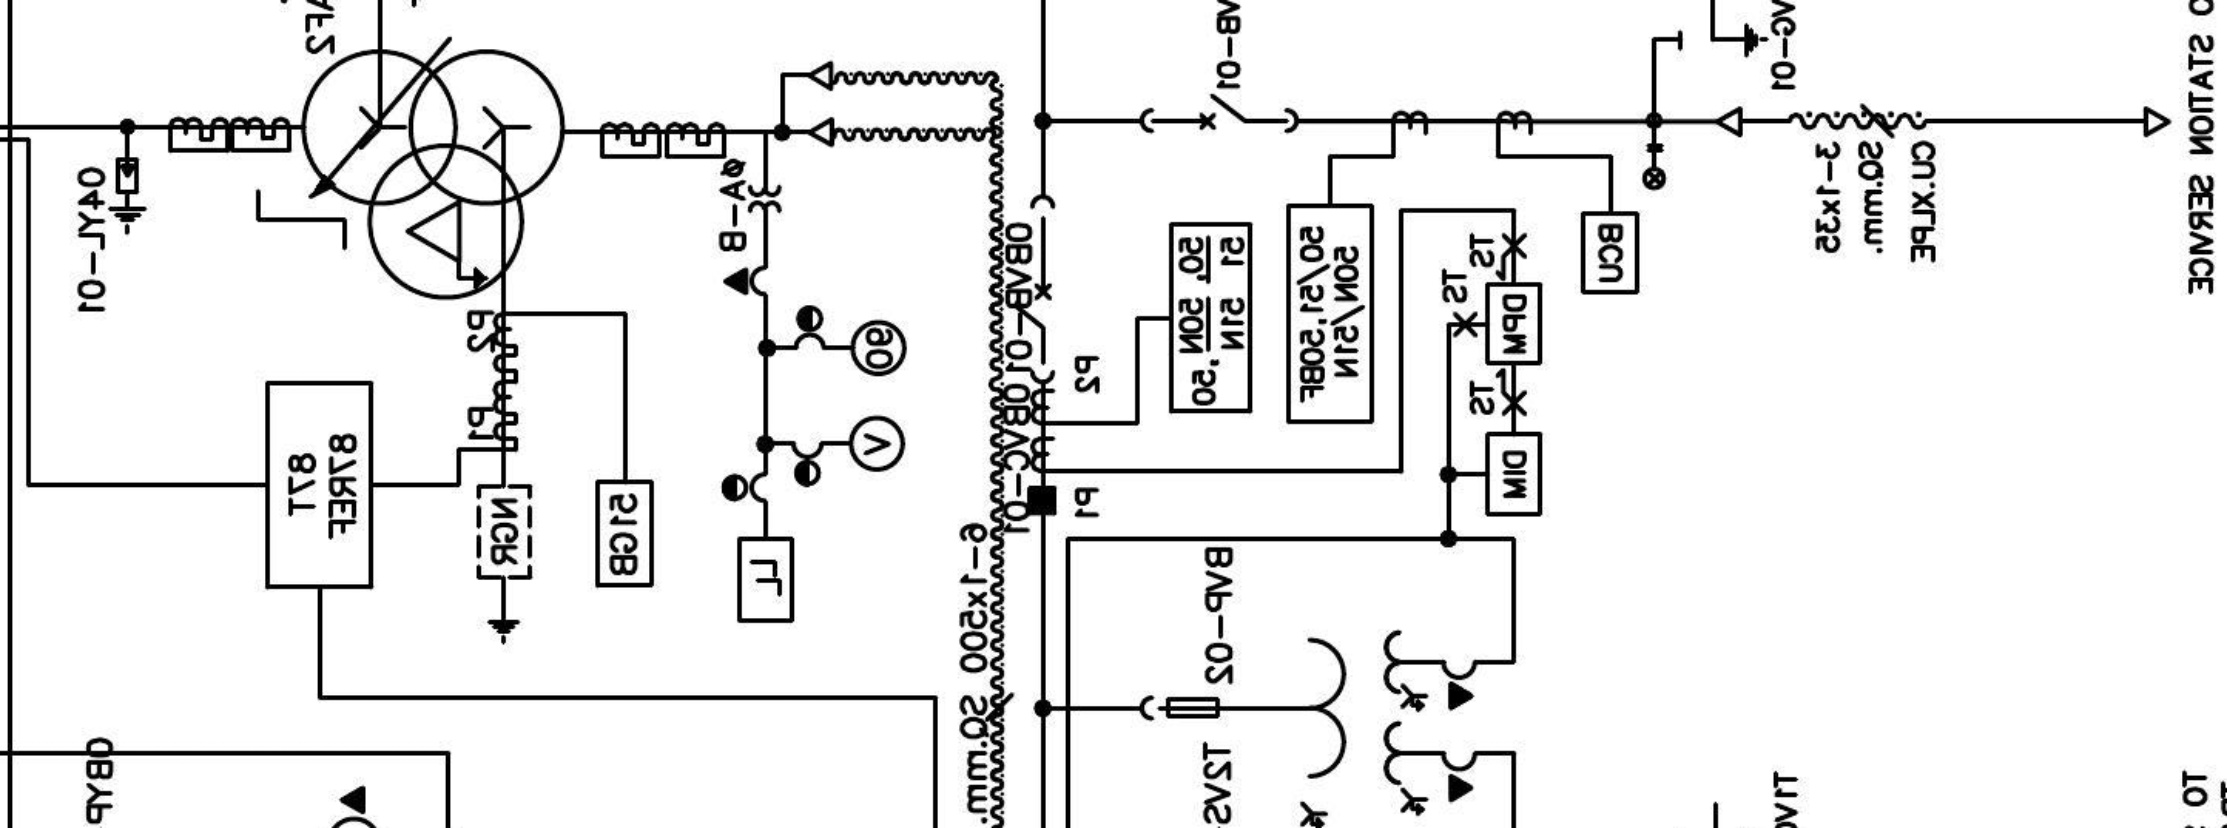11522_tx_ynyn0d1: (300, 47, 567, 301)
115_la: (107, 156, 148, 236)
22_breaker: (1014, 193, 1055, 385), (1139, 92, 1300, 135)
22_ll: (1640, 142, 1667, 192)
BCU: (1579, 210, 1640, 297)
DIM: (1484, 432, 1544, 517)
DPM: (1484, 281, 1542, 366)
LL: (737, 535, 794, 623)
NGR_future: (476, 483, 534, 646)
terminator_double: (778, 60, 835, 149)
terminator_single: (1716, 105, 1744, 138), (2143, 105, 2172, 138)
v_m: (848, 413, 908, 473)
